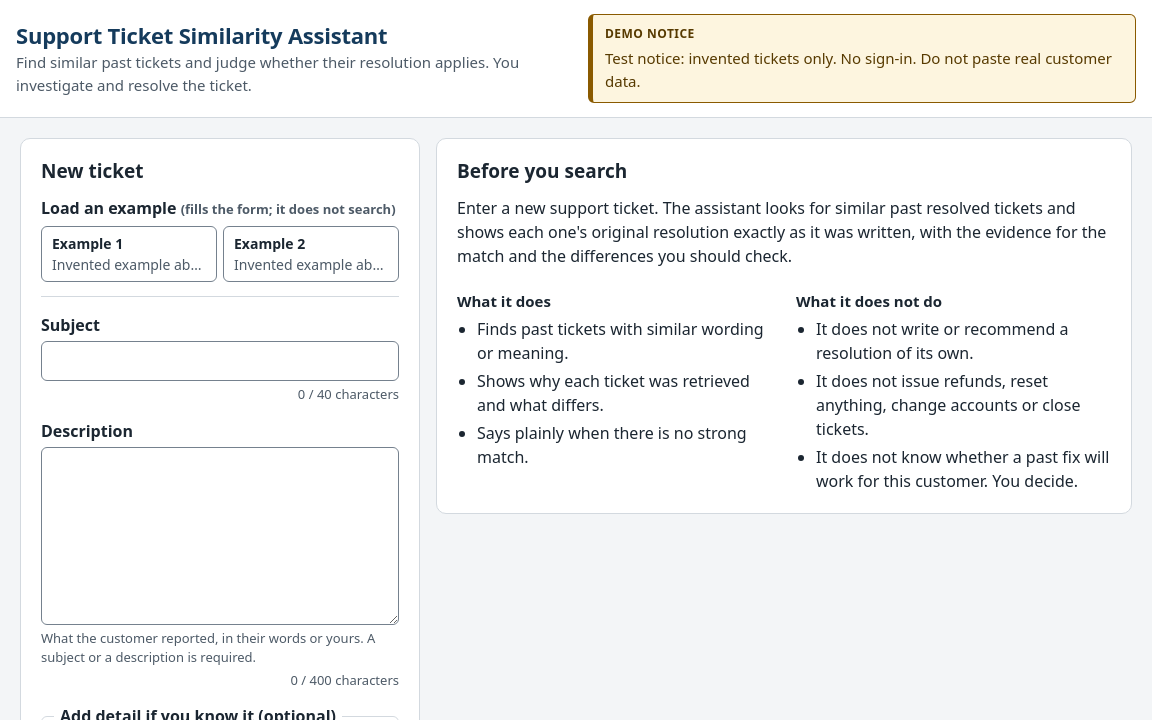
Test: search requests › shows the latest search even when an older answer arrives afterwards
The image size is (1152, 720).
Expected: the heading "Before you search" is shown, 457,158 -> 627,184
Type "Alpha problem" into the field labelled "Subject" at (220,361), box 41,341 -> 399,381
(page scrolled)
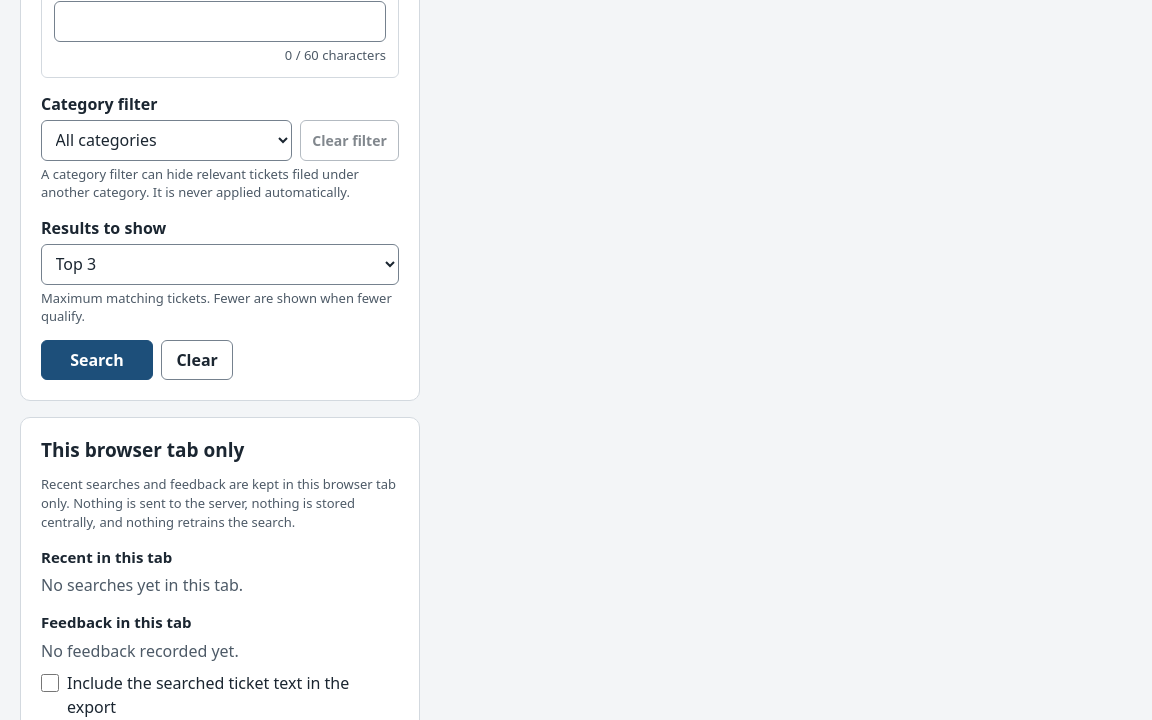
Click the button "Search" at (97,360), box 41,340 -> 153,380
(page scrolled)
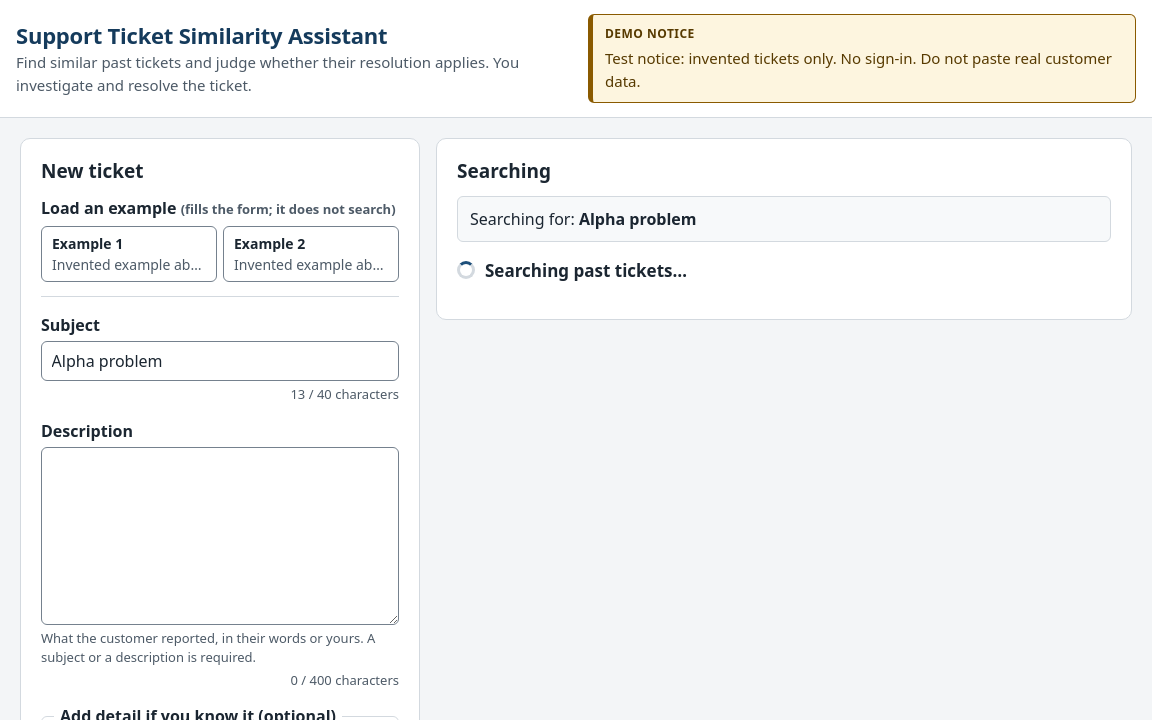
Replace the text in the field labelled "Subject" with "Beta problem" at (220,361), box 41,341 -> 399,381
(page scrolled)
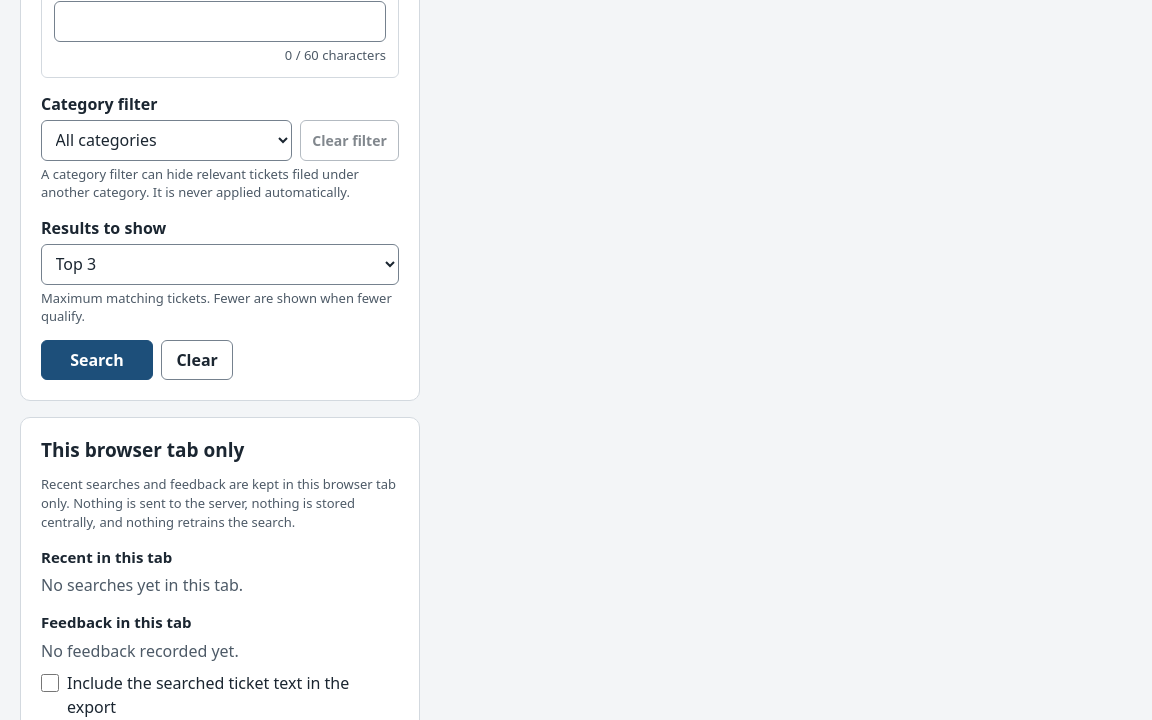
Click the button "Search" at (97,360), box 41,340 -> 153,380
(page scrolled)
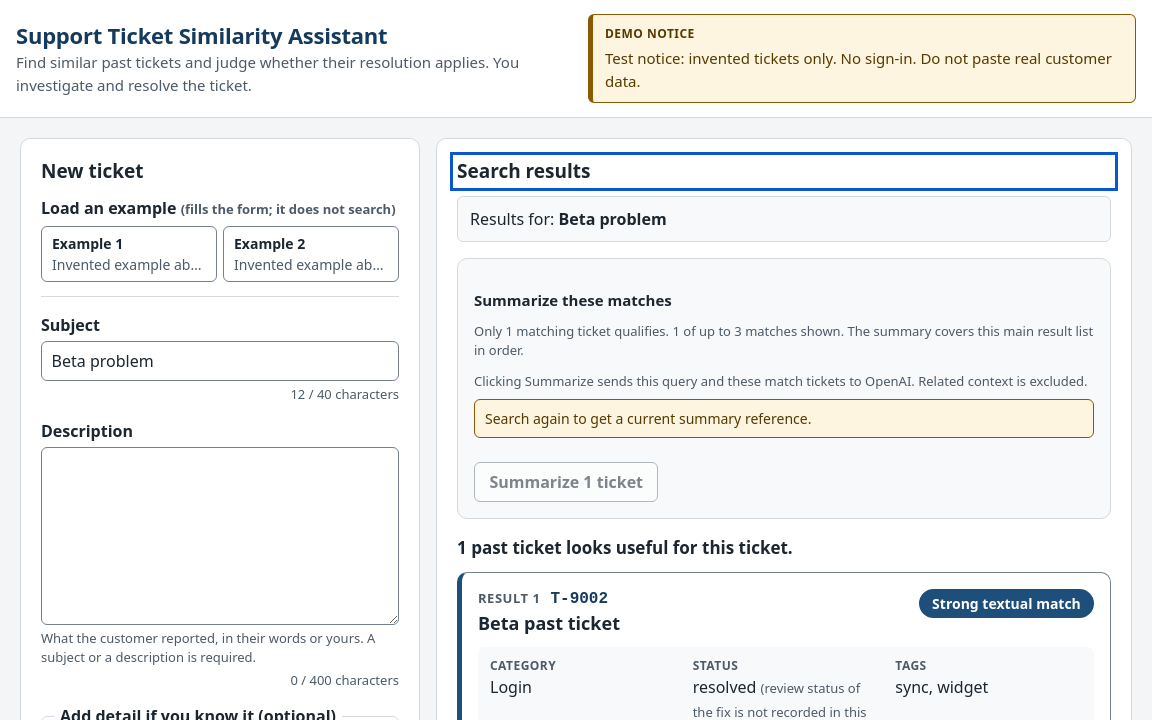
Expected: the heading "Result 1 T-9002 Beta past ticket" is shown, 478,589 -> 620,635
Expected: the text "Beta problem" is shown, 558,208 -> 667,230
